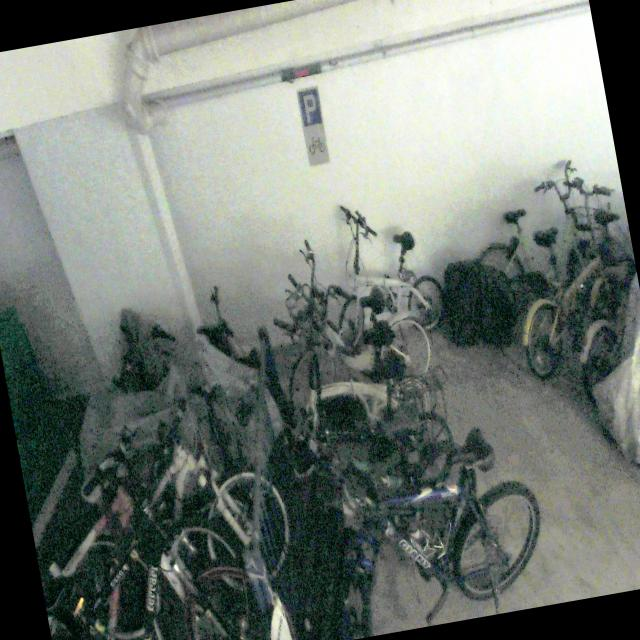bike: (42, 367, 304, 640), (280, 416, 555, 640), (17, 409, 260, 640), (275, 344, 464, 540), (264, 291, 440, 482), (262, 221, 438, 411), (462, 154, 630, 342), (496, 168, 640, 378), (317, 188, 450, 348)
